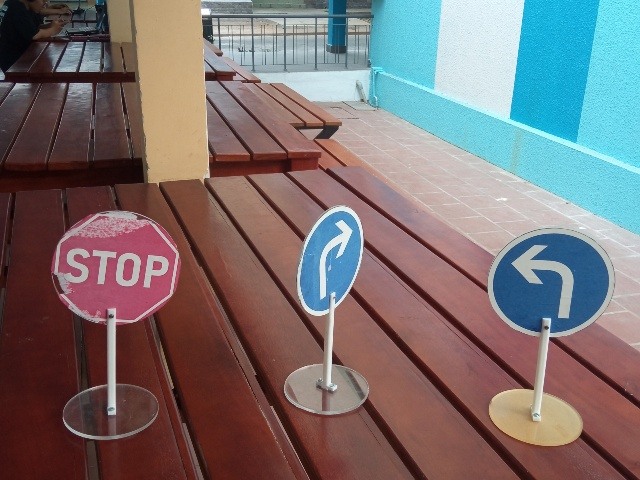Left_Sign: (487, 227, 616, 339)
Right_Sign: (296, 204, 364, 316)
Stop_Sign: (51, 210, 182, 326)
